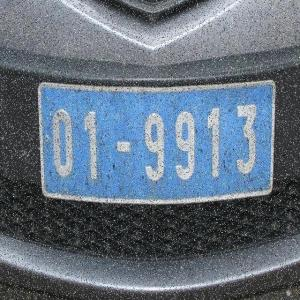Plate: (37, 82, 275, 200)
